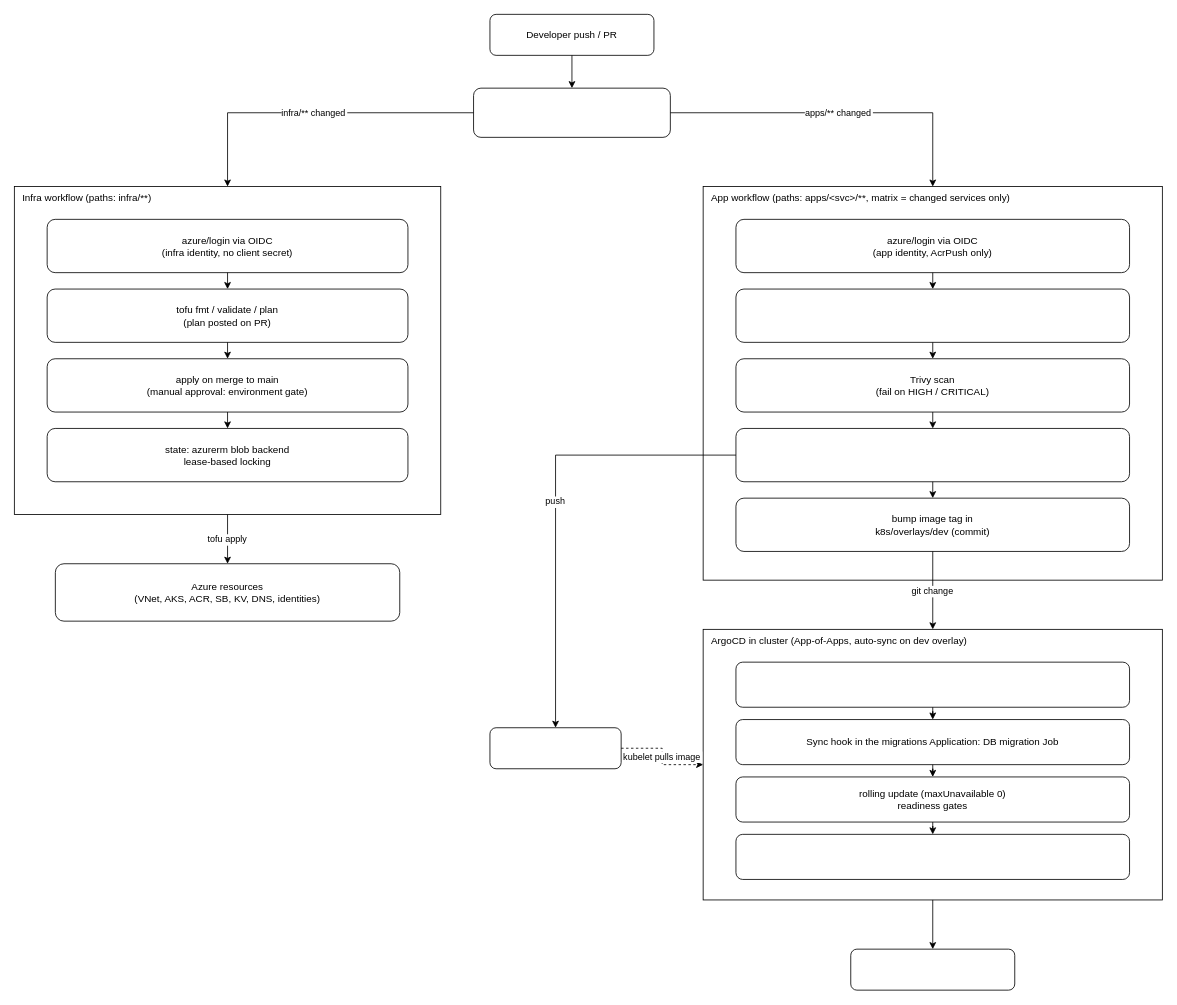
The diagram is 1177 pixels wide and 1005 high, and some of its shapes have lost their labels. The centre of each missing label's shape, as x and y in pixels:
ACR: point 555,748
detects manifest change in git: point 932,684
GitHub repo (apps/, infra/, k8s/, argocd/): point 571,112
health check fails -> rollback (git revert / Argo history): point 932,856
Live traffic via Traefik: point 932,969
multi-stage docker build: point 932,315
push to ACR tag = git sha: point 932,455
